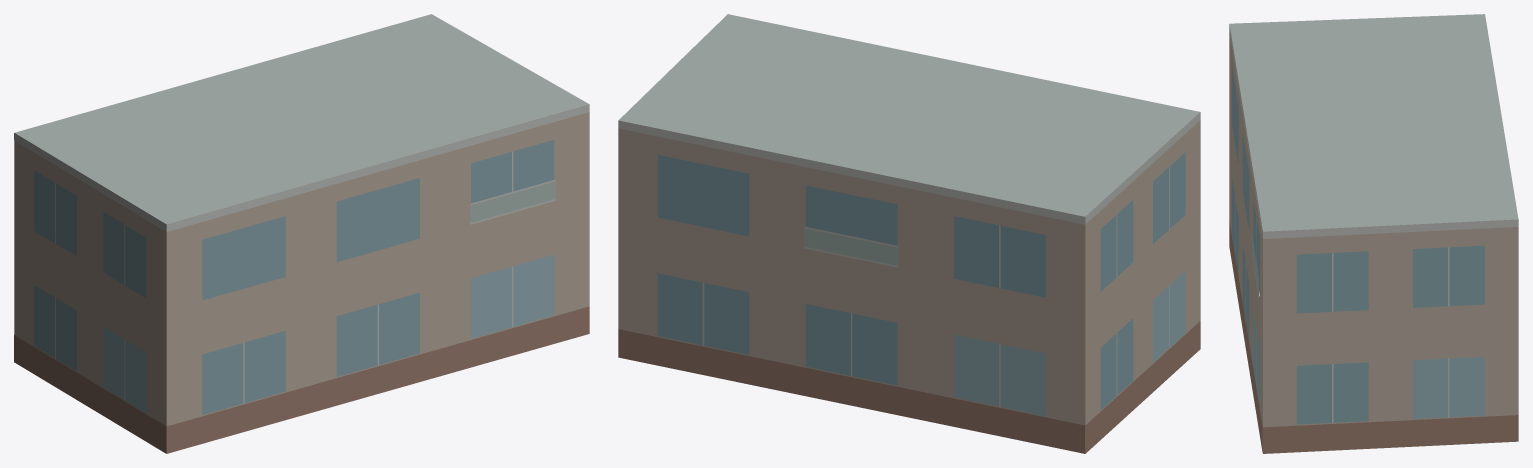
Rendered from survey-upis-32619323.glb.
3 renders of one model, left to right at view 1: azimuth 30°, elevation 25°; view 2: azimuth 150°, elevation 25°; view 3: azimuth 270°, elevation 25°, orthographic. The views are drawn at different scales.
Parts seen in each view (by area): view 1: survey-upis-32619323.tmp; view 2: survey-upis-32619323.tmp; view 3: survey-upis-32619323.tmp.
Boxes of the visible parts, x1,y1,x2,y2 form: survey-upis-32619323.tmp: [14, 14, 589, 453]; survey-upis-32619323.tmp: [618, 14, 1200, 453]; survey-upis-32619323.tmp: [1229, 14, 1518, 453].
Size of the model in its own units: 15.35 by 7.3 by 8.62.
